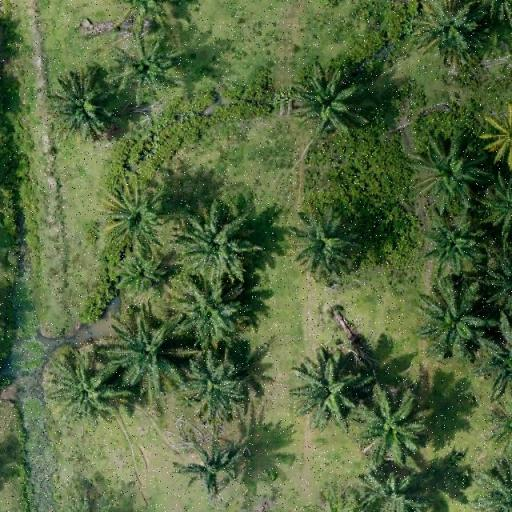Ganoderma: (185, 442, 239, 488), (120, 41, 170, 88), (118, 190, 157, 232)
